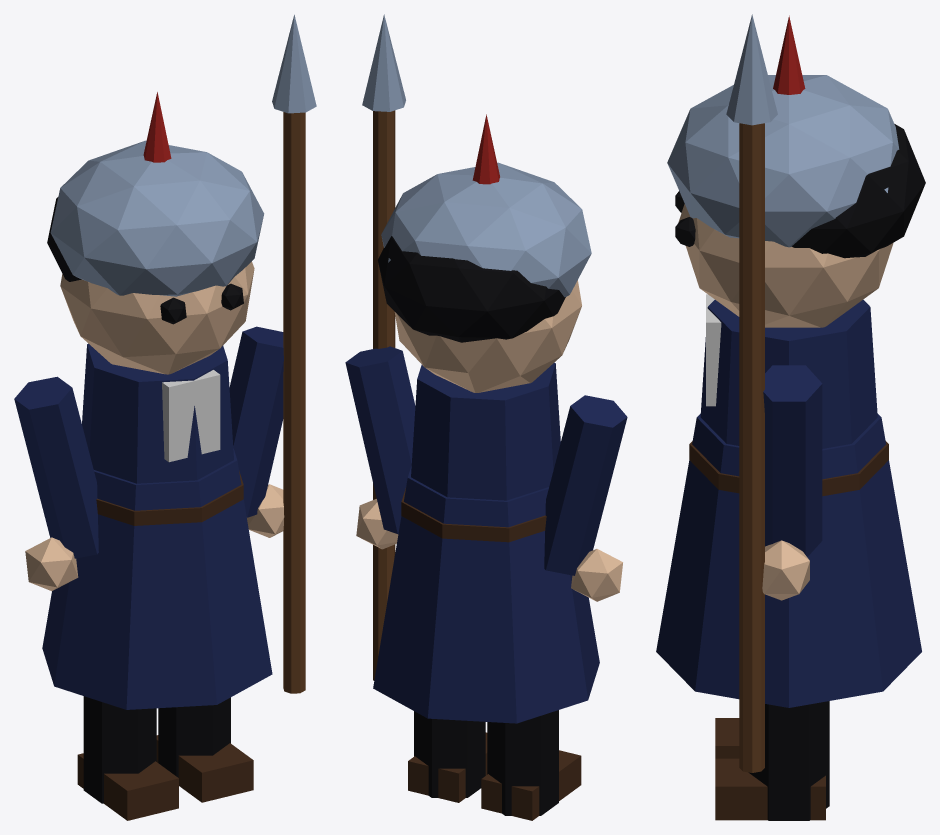
Rendered from SM_GZ_npc_guild_master.fbx.
3 renders of one model, left to right at view 1: azimuth 30°, elevation 25°; view 2: azimuth 150°, elevation 25°; view 3: azimuth 270°, elevation 25°, orthographic. The views are drawn at different scales.
Parts seen in each view (by area): view 1: SM_GZ_npc_guild_master; view 2: SM_GZ_npc_guild_master; view 3: SM_GZ_npc_guild_master.
Part boxes in pixels (<box>): SM_GZ_npc_guild_master: <box>14,14,316,820</box>; SM_GZ_npc_guild_master: <box>345,14,627,820</box>; SM_GZ_npc_guild_master: <box>656,14,925,820</box>.
Size of the model in its own units: 96.36 by 250 by 73.
